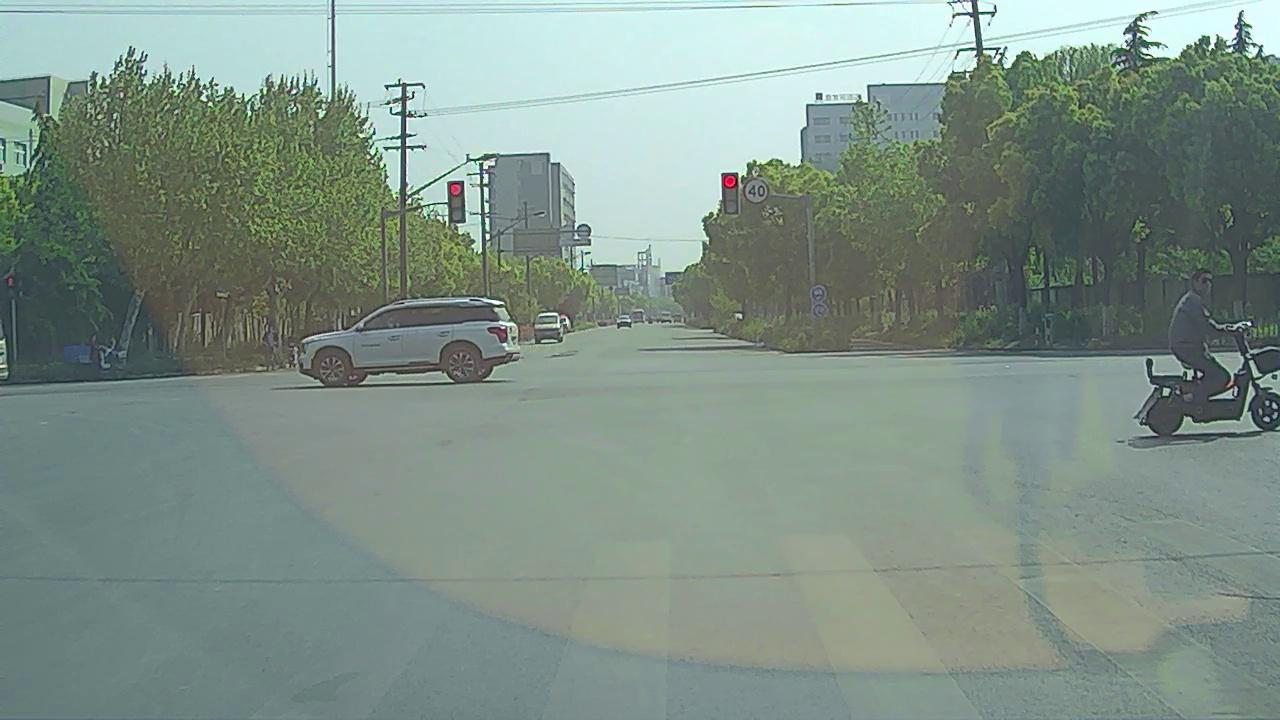traffic_light: (722, 173, 739, 215), (449, 181, 465, 223)
